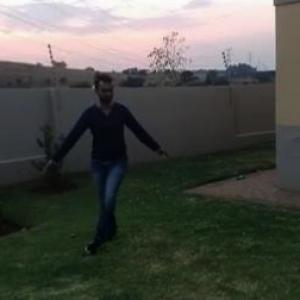land: (36, 59, 164, 266)
